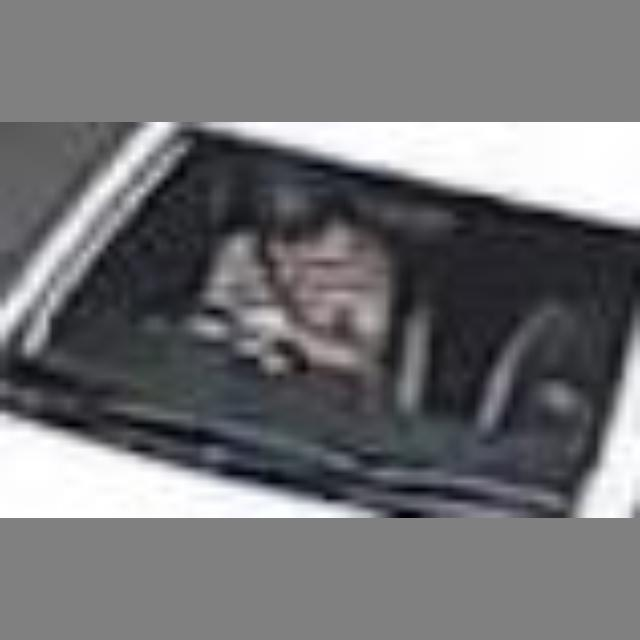pakai: (194, 195, 405, 373)
